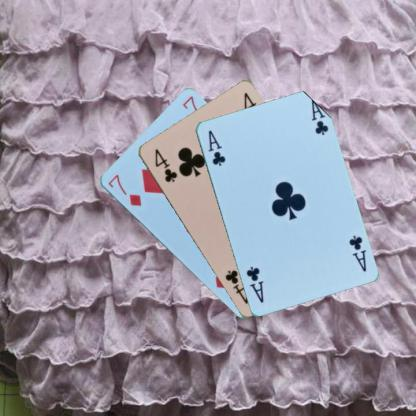4c: (152, 146, 178, 184)
7d: (105, 172, 143, 208)
Ac: (346, 232, 368, 274), (205, 127, 227, 168)
